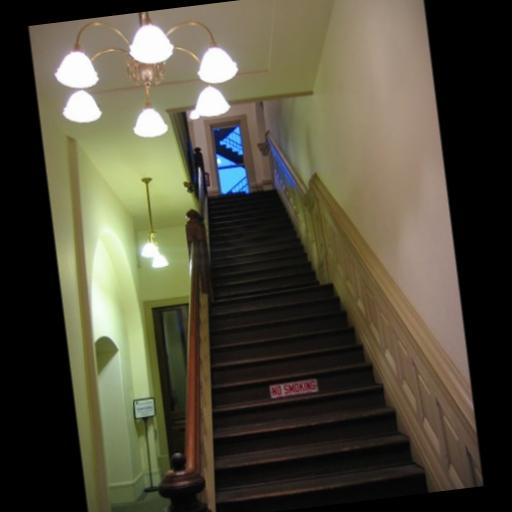stairs: (208, 191, 427, 511)
